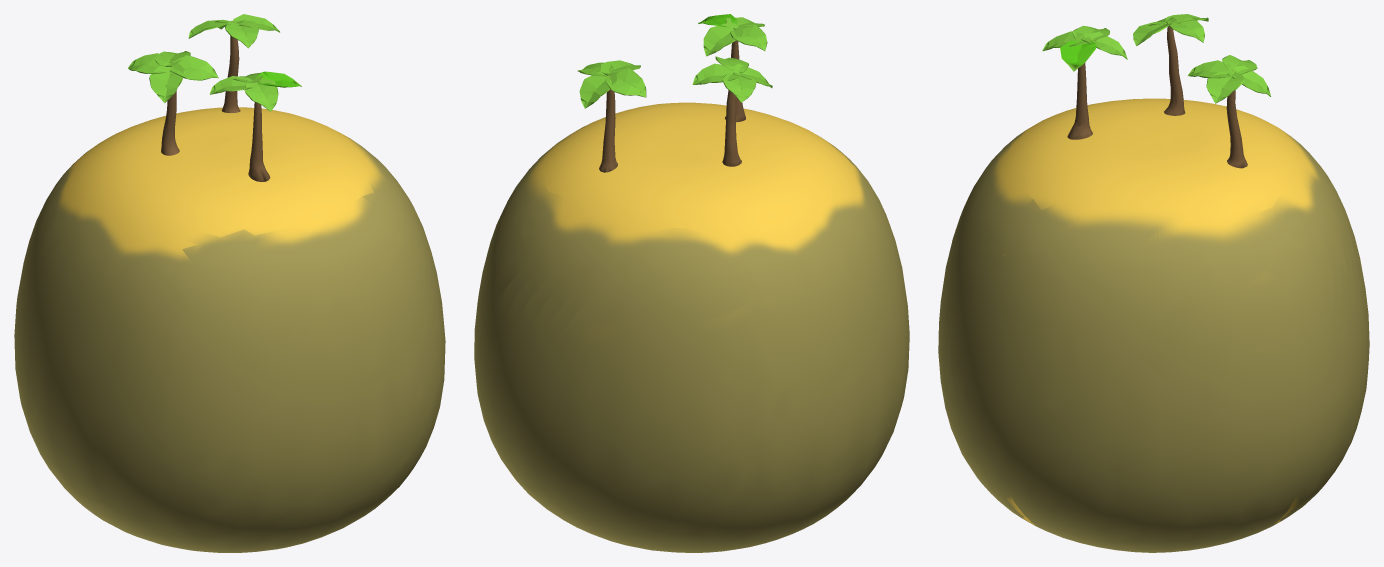
Rendered from island-lowpoly.fbx.
3 views of the same model, side by side, from view 1: azimuth 30°, elevation 25°; view 2: azimuth 150°, elevation 25°; view 3: azimuth 270°, elevation 25° (orthographic). The views are drawn at different scales.
Visible parts, largest first — view 1: Ground; view 2: Ground; view 3: Ground.
Part boxes in pixels (bbox=[...]): Ground: bbox=[14, 14, 445, 552]; Ground: bbox=[474, 14, 909, 552]; Ground: bbox=[938, 14, 1369, 552].
Bounding box in the file's own units: 196086 × 241679 × 196148.
